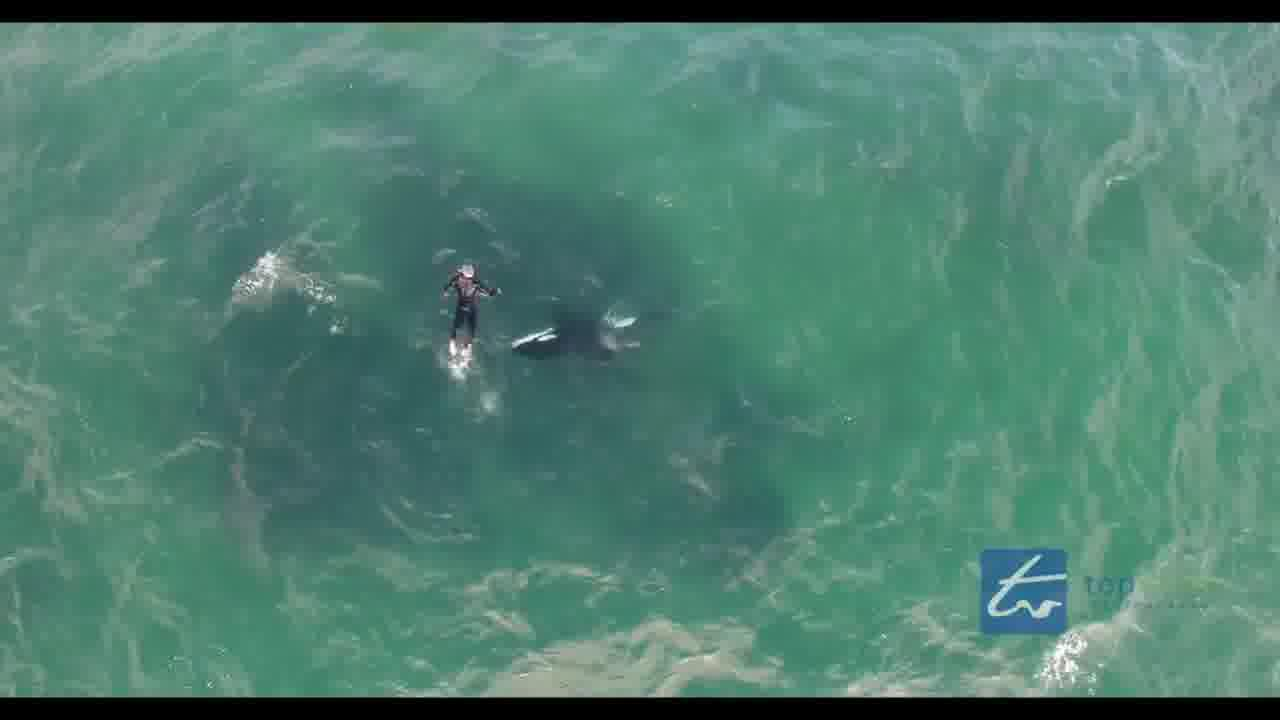human: (446, 249, 486, 371)
